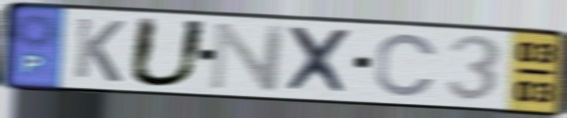3: (445, 33, 508, 105)
C: (372, 31, 441, 99)
K: (71, 15, 128, 85)
N: (206, 20, 290, 92)
U: (124, 15, 213, 91)
X: (283, 24, 355, 97)
